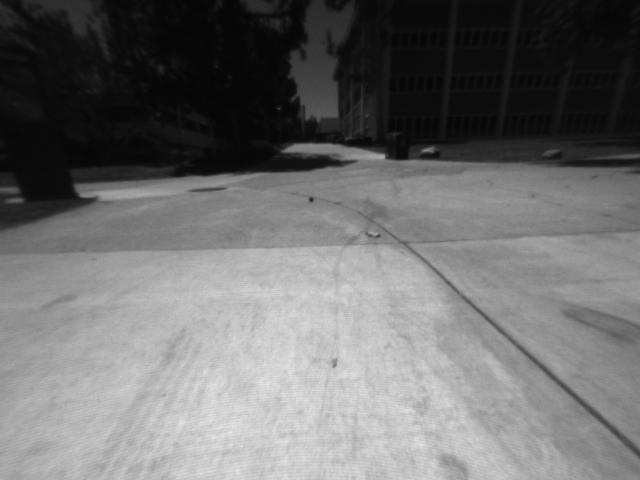dogtoy: (304, 192, 319, 205)
